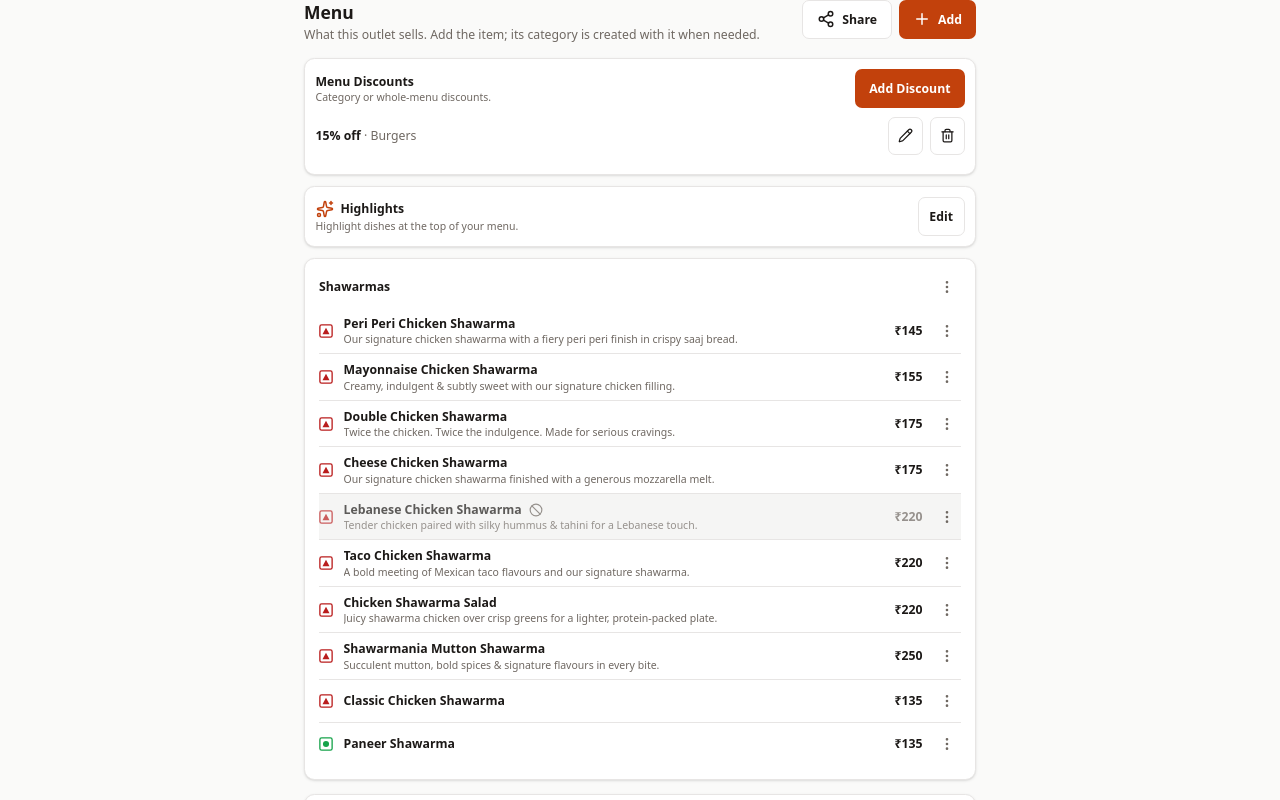
Test case: MenuSurface — the manager › refuses a price that is not a number
The image size is (1280, 800).
Click the button "Add": (938,19) [899,0,976,38]
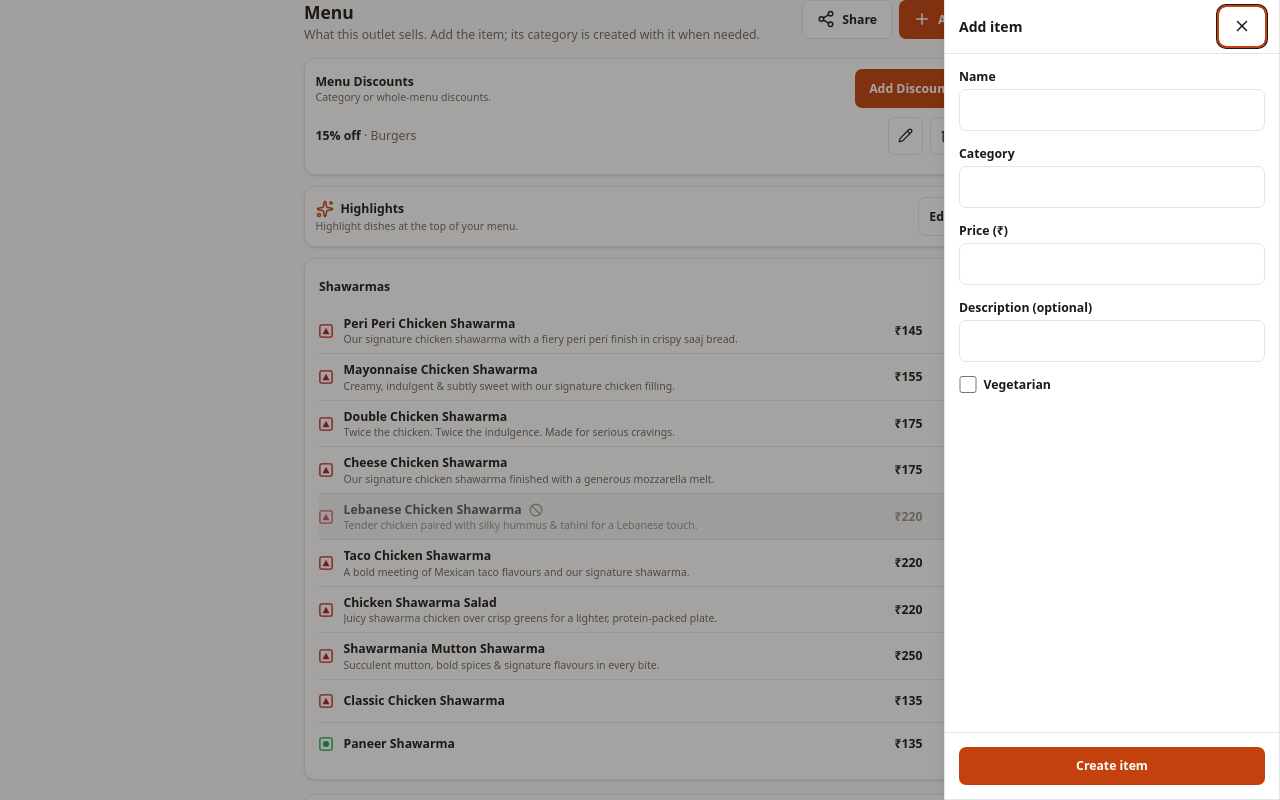
In the field labelled "Name": (1112,110) [959,88,1265,130], type "Mystery Wrap"
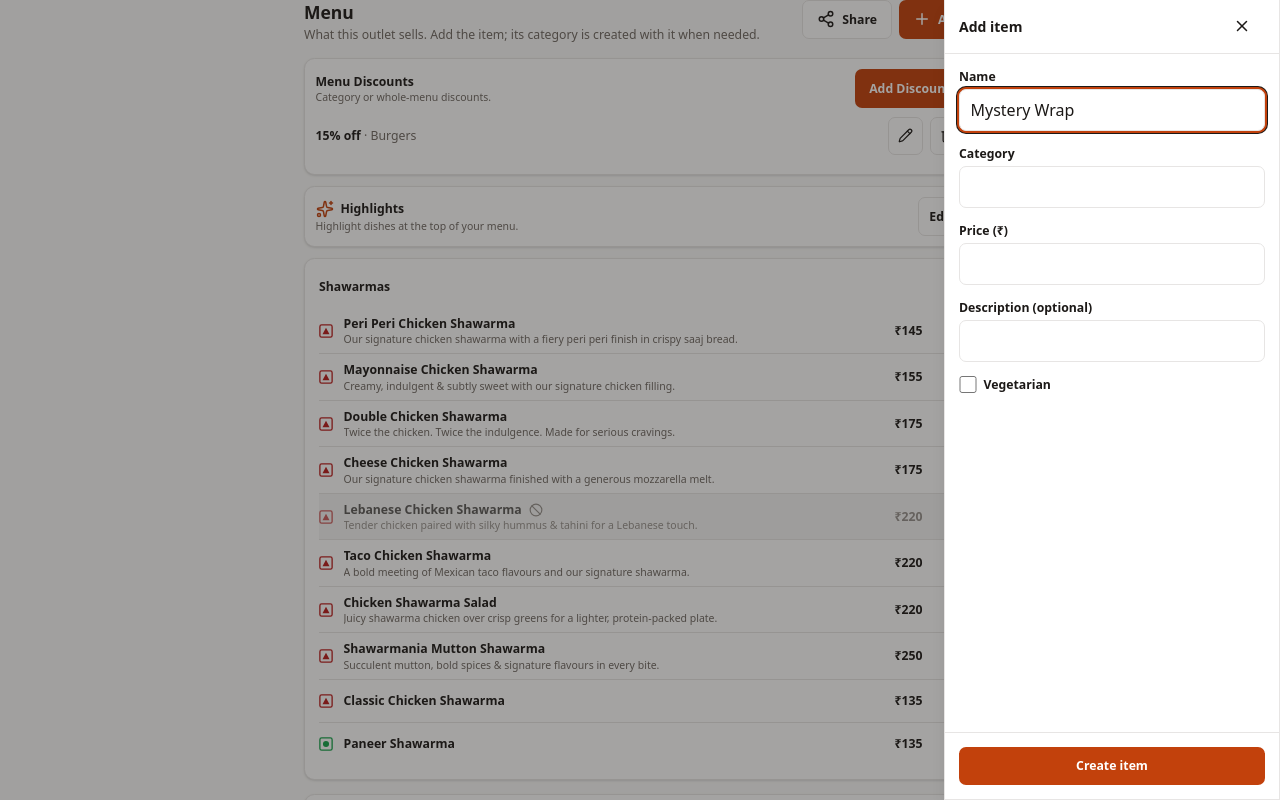
In the dropdown labelled "Category": (1112,186) [959,166,1265,208], type "Shawarma"
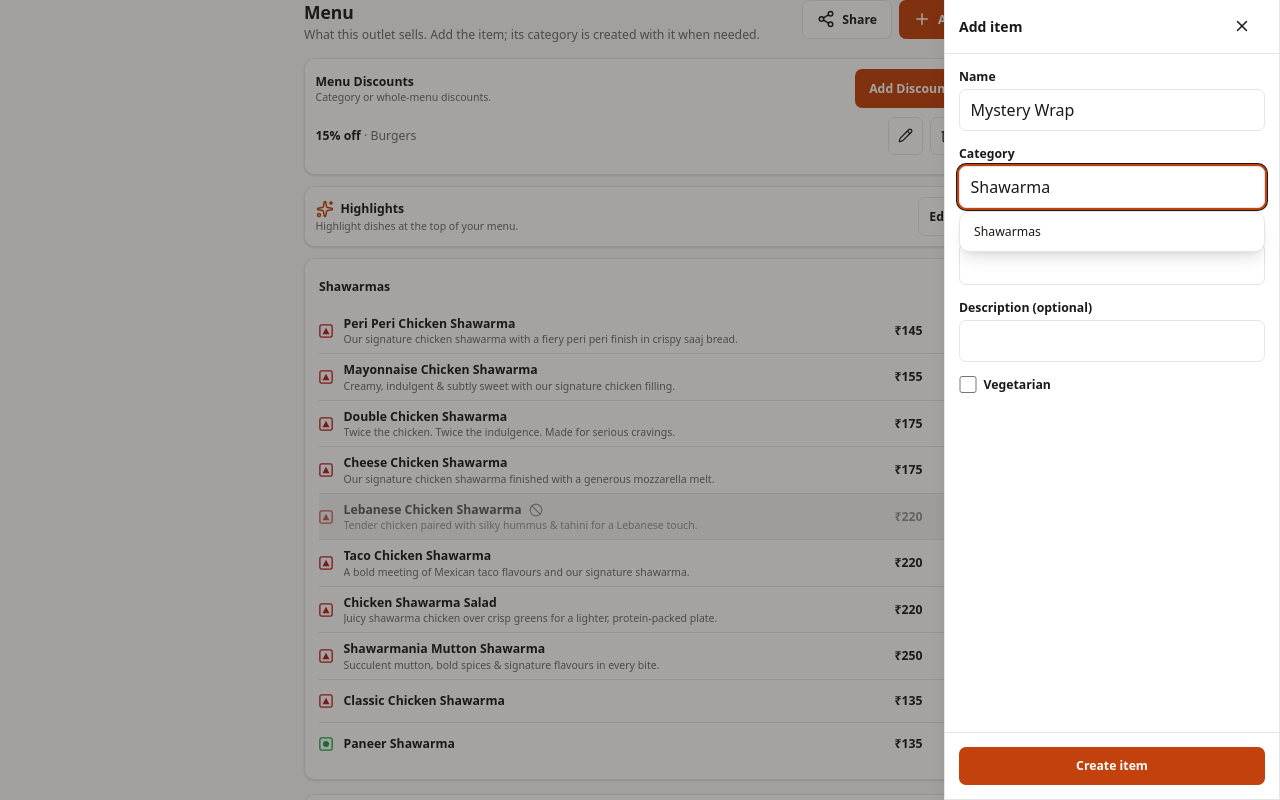
In the field labelled "Price (₹)": (1112,264) [959,242,1265,284], type "lots"
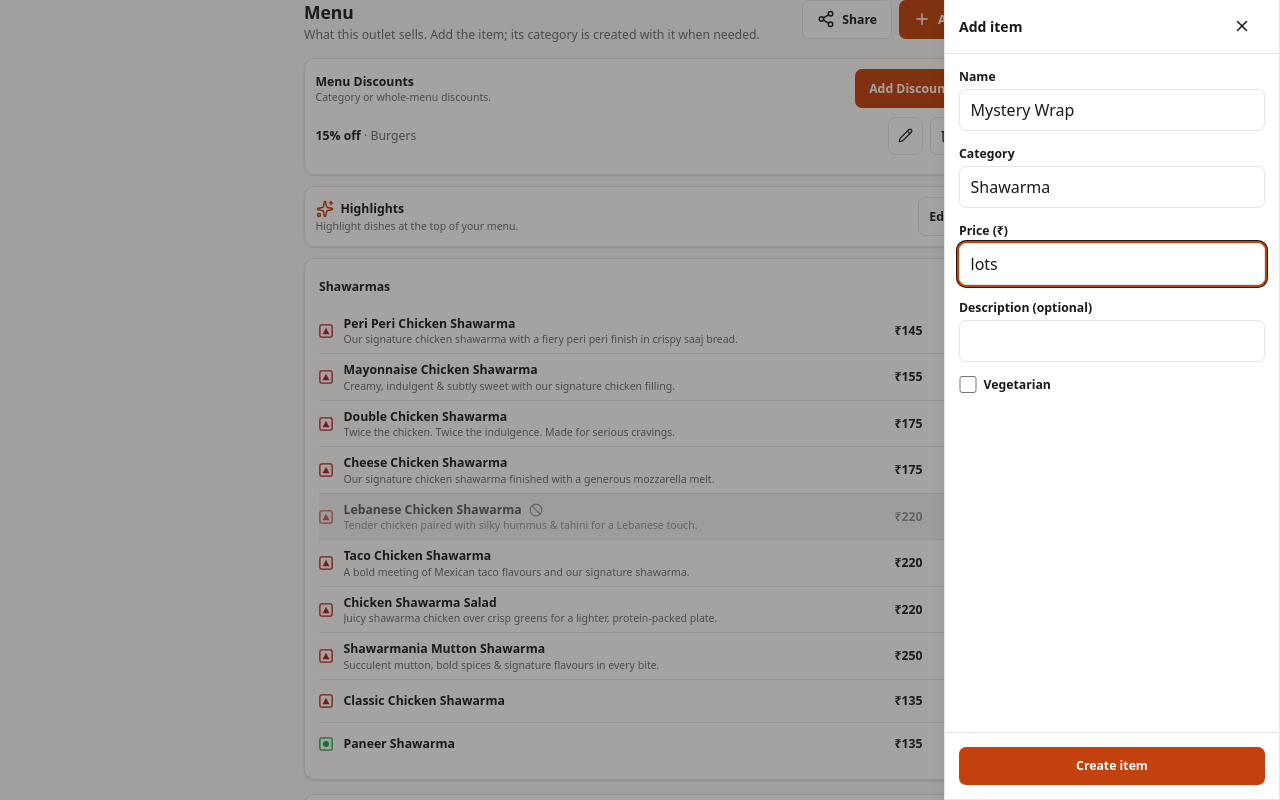
Click the button "Create item": (1112,766) [959,746,1265,785]
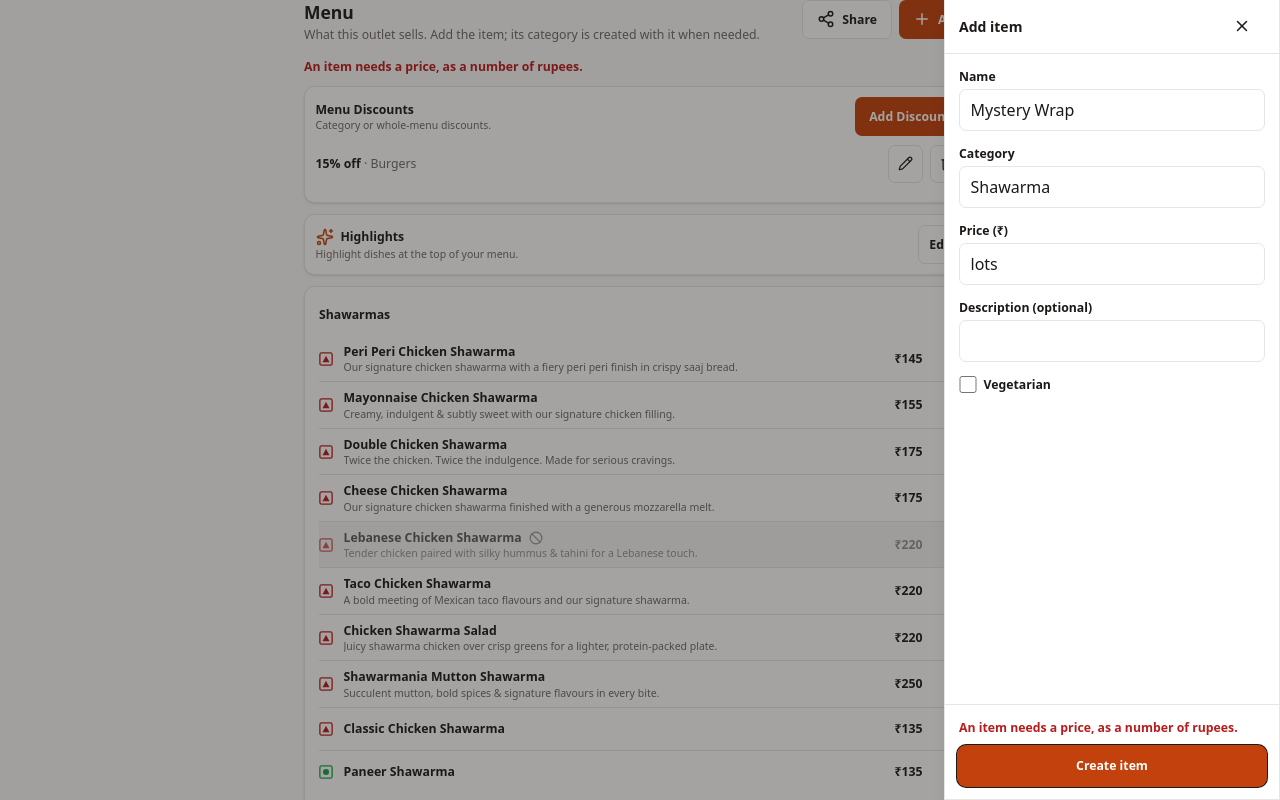
Now the message with test id "form-sheet-error" shows "number of rupees", box [959,718,1238,736]
